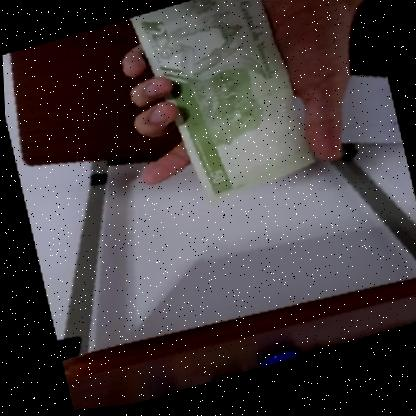fifty-back-vef: (126, 0, 318, 220)
